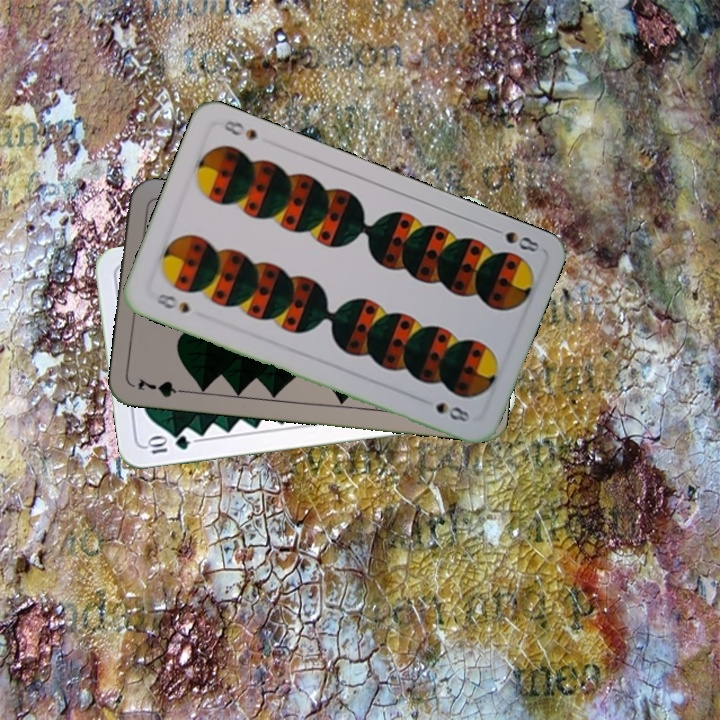G10: (143, 432, 193, 457)
G7: (133, 374, 192, 400)
S8: (485, 222, 542, 255), (150, 289, 192, 316)
